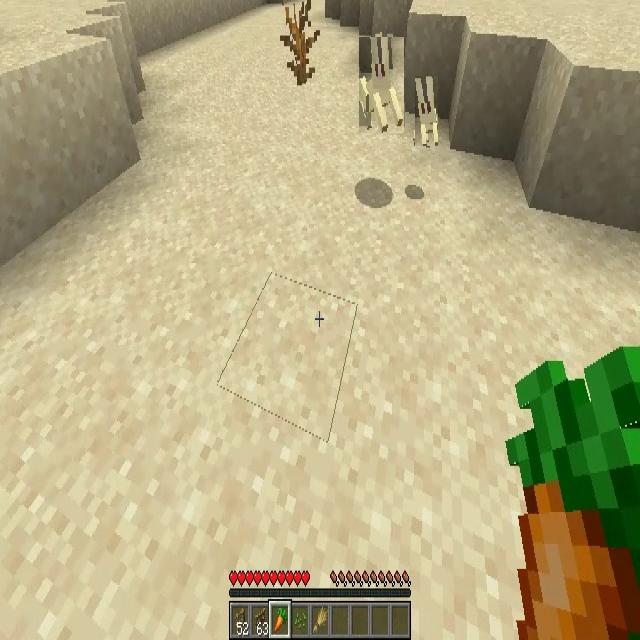rabbit: (359, 37, 404, 133), (415, 76, 438, 146)
